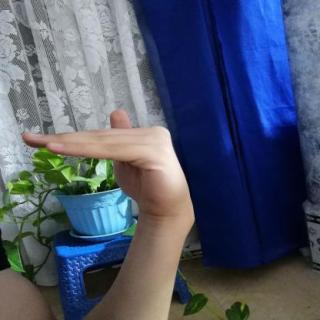KHAA: (12, 103, 206, 227)
